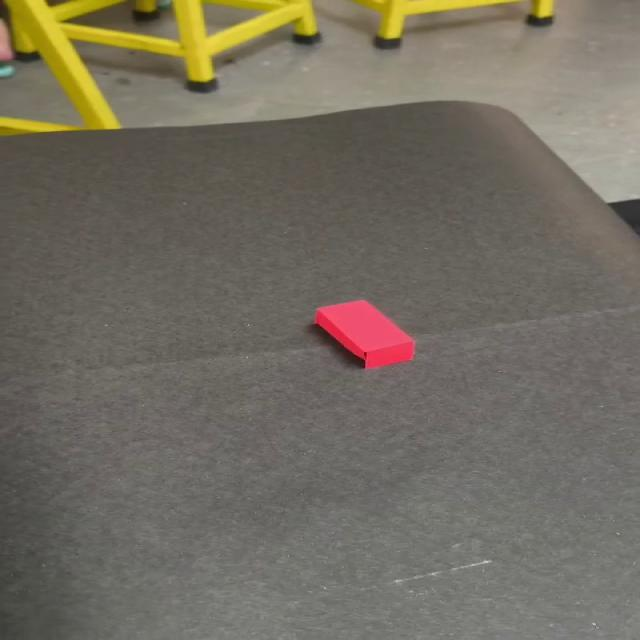red block: (312, 298, 415, 369)
